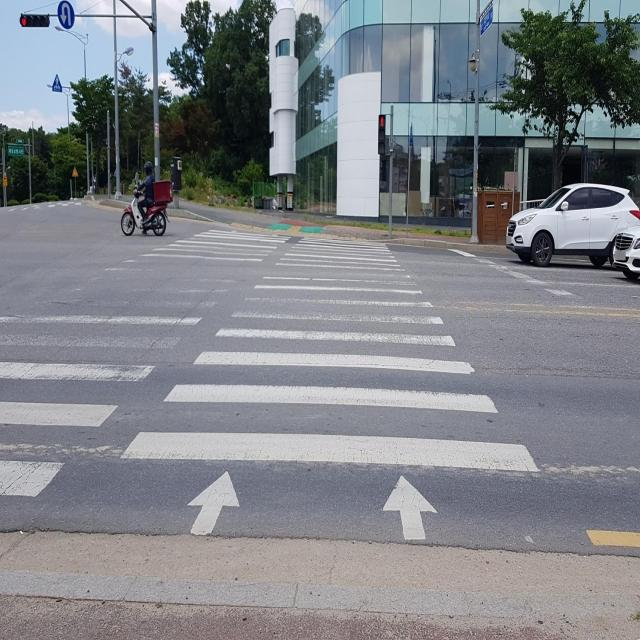빨간불: (378, 114, 386, 155)
횡단보도: (5, 230, 563, 552)
